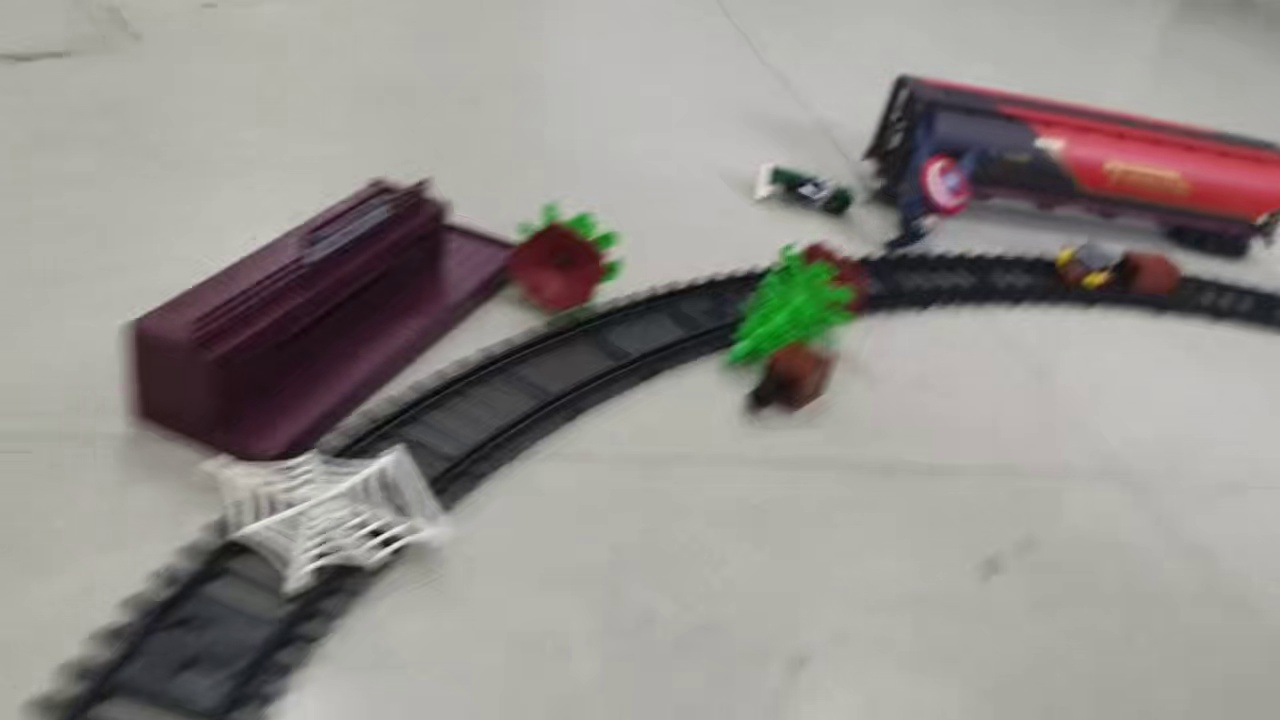box: (743, 338, 834, 415), (1113, 252, 1181, 301)
people: (878, 124, 988, 255), (753, 162, 856, 219), (1052, 240, 1120, 290)
tree: (720, 239, 865, 372), (509, 198, 628, 315)
web: (197, 438, 451, 602)
